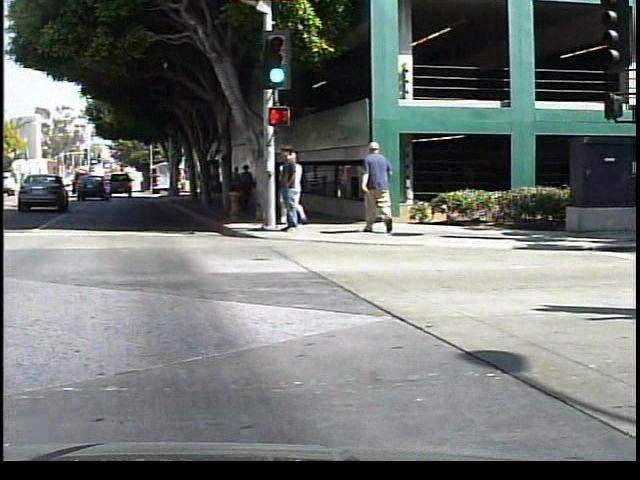person: (354, 137, 403, 235), (270, 143, 305, 239), (285, 145, 316, 227), (240, 161, 258, 208)
